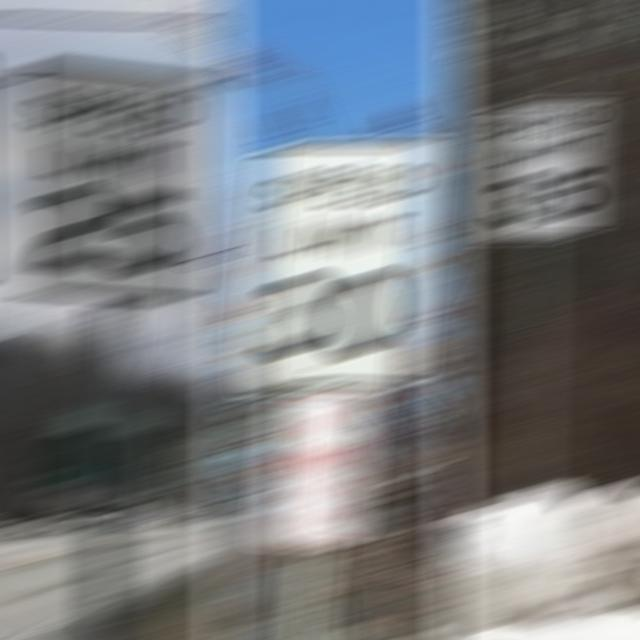speedLimit25: (16, 59, 203, 296)
speedLimit30: (240, 139, 432, 383)
speedLimit35: (489, 98, 598, 238)
